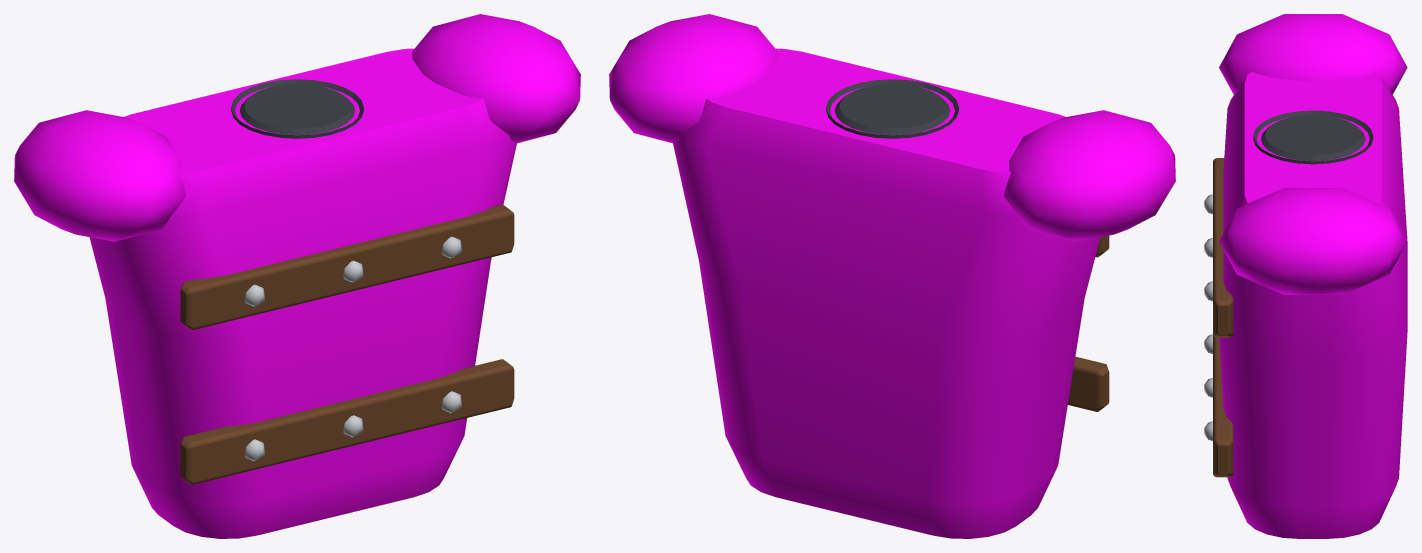
The model's file is objet_armure1_plastron.glb.
3 renders of one model, left to right at view 1: azimuth 30°, elevation 25°; view 2: azimuth 150°, elevation 25°; view 3: azimuth 270°, elevation 25°, orthographic. The views are drawn at different scales.
Visible parts, largest first — view 1: plastron_teinte.006, plastron_sac_cuir.002, plastron_teinte_sombre.006, plastron_rivet.004; view 2: plastron_teinte.006, plastron_teinte_sombre.006, plastron_sac_cuir.002; view 3: plastron_teinte.006, plastron_teinte_sombre.006, plastron_sac_cuir.002, plastron_rivet.004.
Boxes of the visible parts, bbox=[...] form: plastron_teinte.006: bbox=[14, 14, 580, 538]; plastron_sac_cuir.002: bbox=[180, 204, 514, 484]; plastron_teinte_sombre.006: bbox=[231, 79, 363, 138]; plastron_rivet.004: bbox=[244, 236, 462, 460]; plastron_teinte.006: bbox=[609, 14, 1175, 538]; plastron_teinte_sombre.006: bbox=[826, 79, 958, 138]; plastron_sac_cuir.002: bbox=[1068, 235, 1109, 411]; plastron_teinte.006: bbox=[1219, 14, 1407, 538]; plastron_teinte_sombre.006: bbox=[1253, 110, 1373, 164]; plastron_sac_cuir.002: bbox=[1213, 158, 1233, 477]; plastron_rivet.004: bbox=[1204, 194, 1212, 441].
Size of the model in its own units: 0.3256 by 0.24 by 0.1185.
